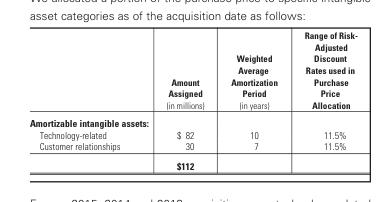table: (28, 29, 357, 170)
table column: (28, 29, 142, 170), (142, 29, 216, 170), (216, 29, 290, 170), (290, 29, 357, 170)
table column header: (28, 29, 357, 113)
table projected row header: (28, 113, 357, 128)
table row: (28, 29, 357, 113), (28, 139, 357, 155), (28, 113, 357, 128), (28, 155, 357, 170), (28, 128, 357, 139)
